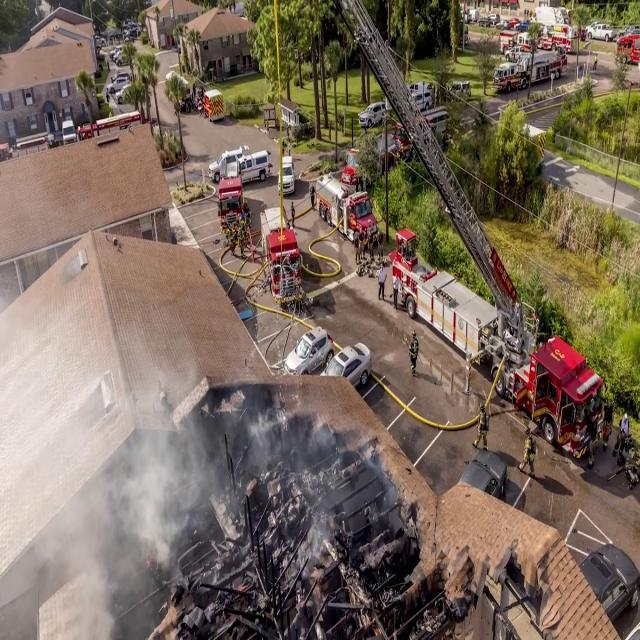Smoke: (0, 351, 224, 634)
